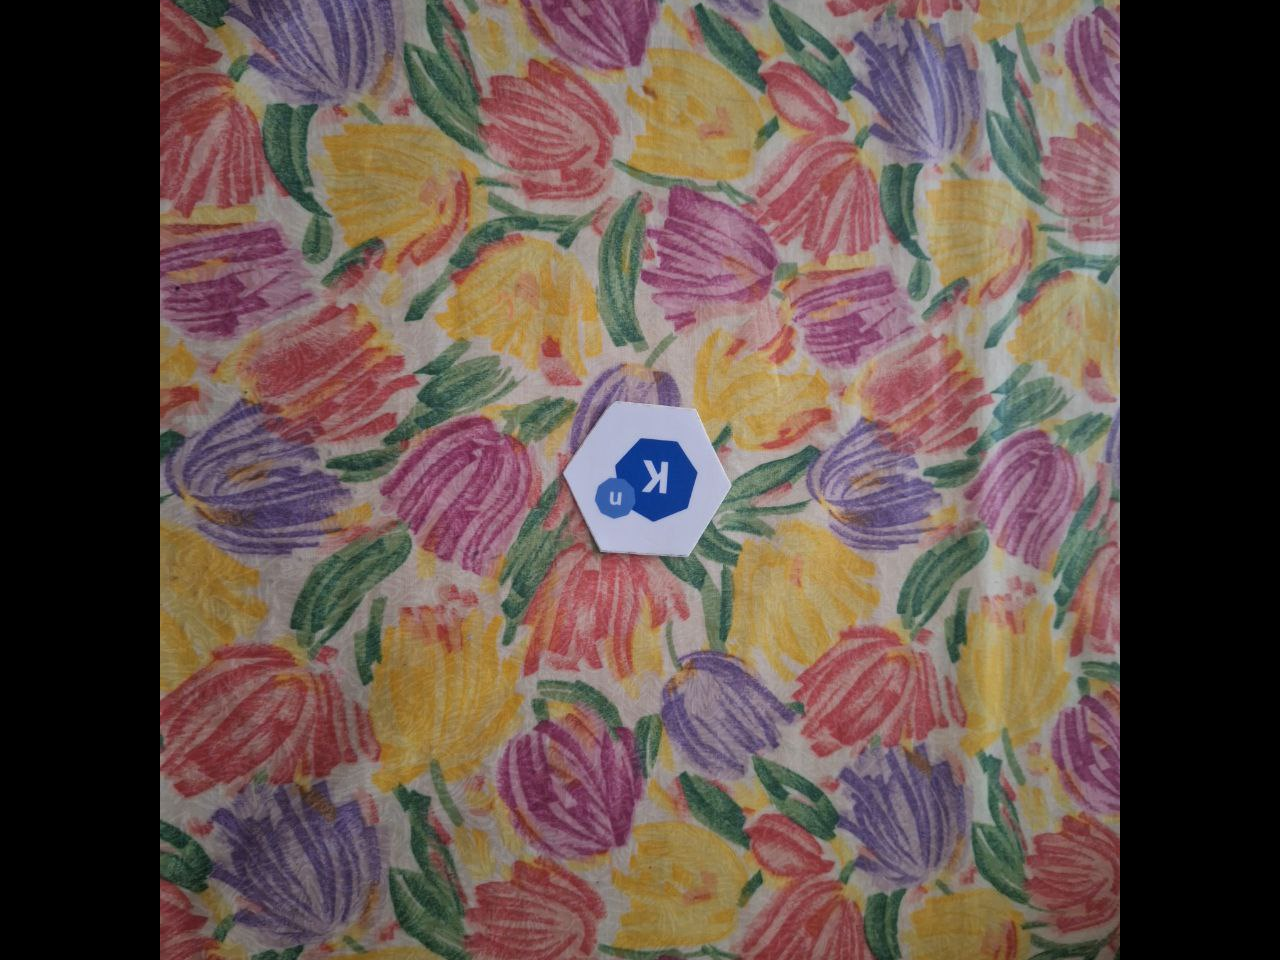knative: (596, 438, 701, 526)
